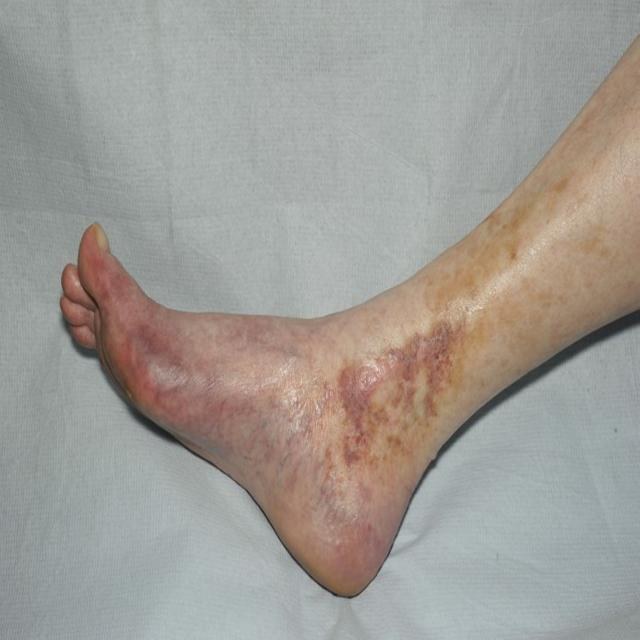wound: (335, 314, 465, 470)
